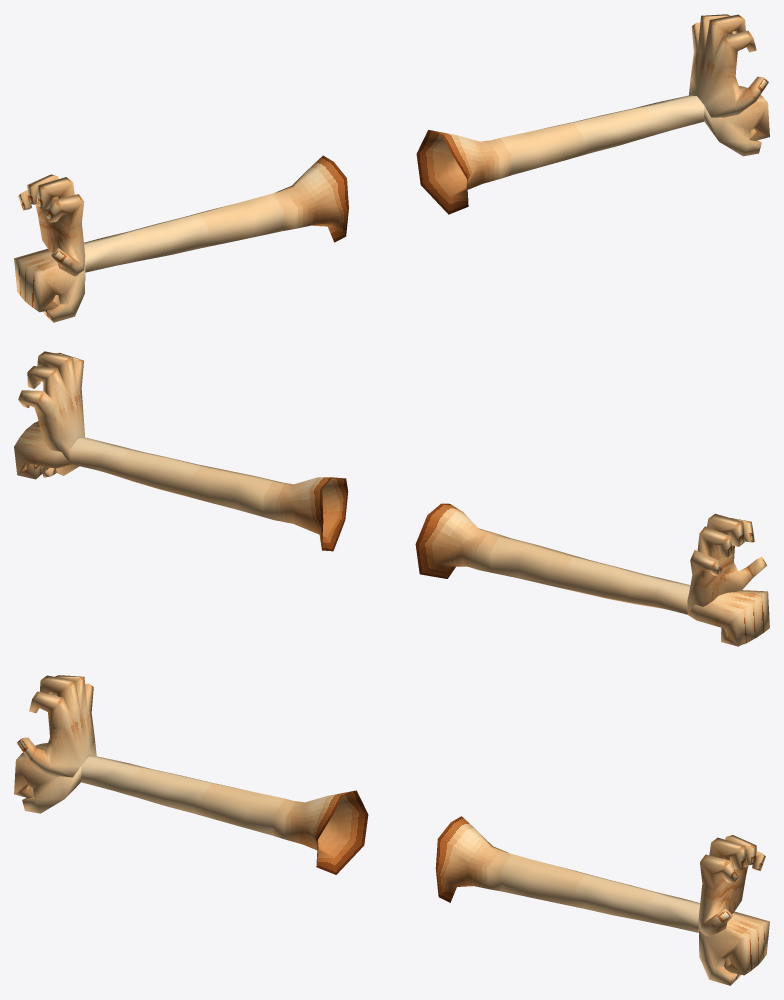
Rendered from Arms.obj.
3 views of the same model, one above another, from view 1: azimuth 30°, elevation 25°; view 2: azimuth 150°, elevation 25°; view 3: azimuth 330°, elevation 25° (orthographic).
Parts seen in each view (by area): view 1: sp_l_arm, sp_r_arm, sp_l_hand_bazooka, sp_r_hand_bazooka, sp_r_hand_close, sp_l_hand_close; view 2: sp_r_arm, sp_l_arm, sp_l_hand_bazooka, sp_r_hand_bazooka, sp_r_hand_close, sp_l_hand_close; view 3: sp_r_arm, sp_l_arm, sp_r_hand_bazooka, sp_l_hand_bazooka, sp_l_hand_close, sp_r_hand_close.
Part boxes in pixels (box(x1,y1,x2,y2)): sp_l_arm: box(416, 95, 704, 214); sp_r_arm: box(84, 155, 348, 272); sp_l_hand_bazooka: box(688, 14, 768, 117); sp_r_hand_bazooka: box(18, 174, 85, 276); sp_r_hand_close: box(14, 248, 85, 322); sp_l_hand_close: box(704, 86, 769, 156); sp_r_arm: box(415, 503, 690, 614); sp_l_arm: box(69, 437, 348, 551); sp_l_hand_bazooka: box(18, 351, 84, 463); sp_r_hand_bazooka: box(687, 513, 766, 613); sp_r_hand_close: box(687, 590, 769, 646); sp_l_hand_close: box(14, 421, 78, 479); sp_r_arm: box(81, 756, 368, 874); sp_l_arm: box(435, 816, 700, 932); sp_r_hand_bazooka: box(17, 675, 96, 777); sp_l_hand_bazooka: box(699, 835, 765, 936); sp_l_hand_close: box(698, 911, 769, 985); sp_r_hand_close: box(14, 743, 81, 813).
Size of the model in its own units: 1.47 by 0.2454 by 0.1669.
1 material, 1 textured.
